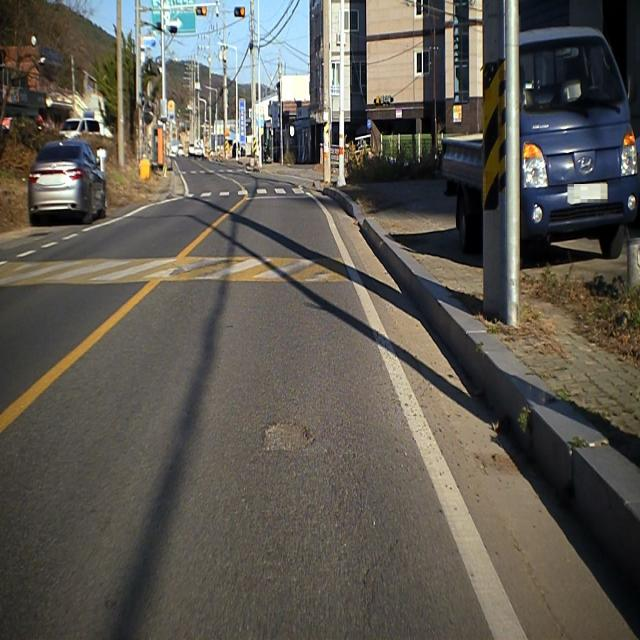Pothole: (262, 406, 322, 460)
